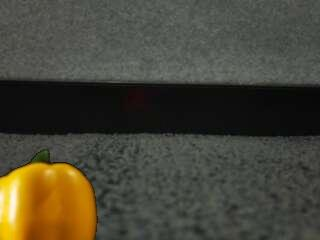Capsicum: (0, 148, 101, 240)
